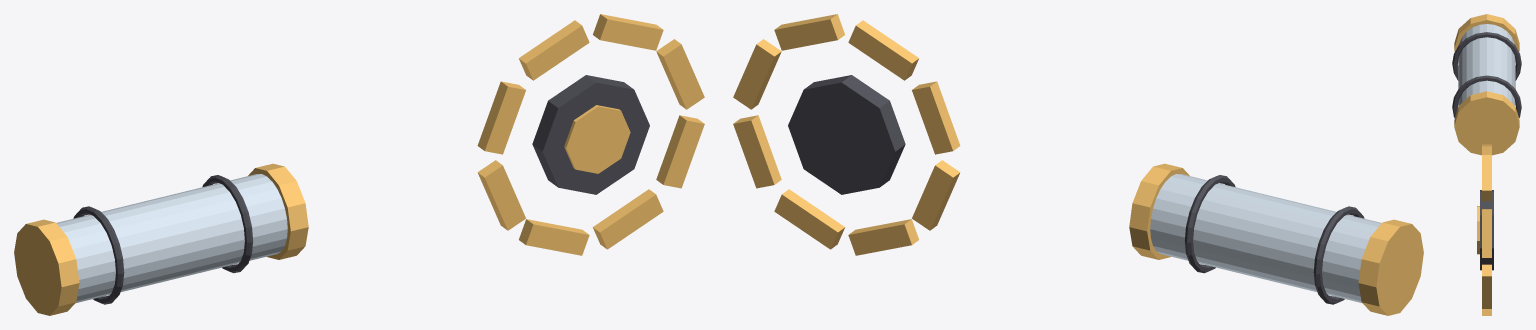
File: hud_gauges.fbx
3 renders of one model, left to right at view 1: azimuth 30°, elevation 25°; view 2: azimuth 150°, elevation 25°; view 3: azimuth 270°, elevation 25°, orthographic. The views are drawn at different scales.
Visible parts, largest first — view 1: FT_Glass__UI_Glass, HR_Core__UI_Dark, FT_CapL__UI_Accent, HR_CoreGlow__UI_Accent, FT_CapR__UI_Accent, HR_Plate3__UI_Accent, HR_Plate7__UI_Accent, HR_Plate8__UI_Accent, HR_Plate4__UI_Accent, HR_Plate2__UI_Accent, HR_Plate6__UI_Accent, HR_Plate5__UI_Accent (+3 smaller); view 2: FT_Glass__UI_Glass, HR_Core__UI_Dark, FT_CapL__UI_Accent, FT_CapR__UI_Accent, HR_Plate3__UI_Accent, HR_Plate7__UI_Accent, HR_Plate8__UI_Accent, HR_Plate4__UI_Accent, HR_Plate2__UI_Accent, HR_Plate6__UI_Accent, HR_Plate5__UI_Accent, HR_Plate1__UI_Accent (+2 smaller); view 3: FT_CapR__UI_Accent, FT_Glass__UI_Glass, FT_CapL__UI_Accent, FT_RingL__UI_Dark, FT_RingR__UI_Dark, HR_Plate2__UI_Accent, HR_Core__UI_Dark, HR_Plate1__UI_Accent, HR_Plate3__UI_Accent, HR_CoreGlow__UI_Accent, HR_Plate8__UI_Accent, HR_Plate4__UI_Accent.
Boxes of the visible parts, bbox=[...] form: FT_Glass__UI_Glass: bbox=[56, 174, 287, 303]; HR_Core__UI_Dark: bbox=[532, 75, 649, 194]; FT_CapL__UI_Accent: bbox=[14, 219, 79, 315]; HR_CoreGlow__UI_Accent: bbox=[564, 105, 630, 173]; FT_CapR__UI_Accent: bbox=[248, 163, 308, 259]; HR_Plate3__UI_Accent: bbox=[656, 115, 704, 188]; HR_Plate7__UI_Accent: bbox=[477, 81, 525, 154]; HR_Plate8__UI_Accent: bbox=[519, 20, 589, 80]; HR_Plate4__UI_Accent: bbox=[592, 189, 663, 249]; HR_Plate2__UI_Accent: bbox=[656, 39, 704, 109]; HR_Plate6__UI_Accent: bbox=[477, 160, 525, 230]; HR_Plate5__UI_Accent: bbox=[519, 219, 589, 255]; FT_Glass__UI_Glass: bbox=[1150, 174, 1381, 303]; HR_Core__UI_Dark: bbox=[788, 75, 905, 194]; FT_CapL__UI_Accent: bbox=[1358, 219, 1423, 315]; FT_CapR__UI_Accent: bbox=[1129, 163, 1189, 259]; HR_Plate3__UI_Accent: bbox=[733, 115, 781, 188]; HR_Plate7__UI_Accent: bbox=[912, 81, 960, 154]; HR_Plate8__UI_Accent: bbox=[848, 20, 918, 80]; HR_Plate4__UI_Accent: bbox=[774, 189, 845, 249]; HR_Plate2__UI_Accent: bbox=[733, 39, 781, 109]; HR_Plate6__UI_Accent: bbox=[912, 160, 960, 230]; HR_Plate5__UI_Accent: bbox=[848, 219, 918, 255]; HR_Plate1__UI_Accent: bbox=[774, 14, 844, 50]; FT_CapR__UI_Accent: bbox=[1454, 91, 1519, 155]; FT_Glass__UI_Glass: bbox=[1458, 24, 1515, 105]; FT_CapL__UI_Accent: bbox=[1454, 14, 1519, 62]; FT_RingL__UI_Dark: bbox=[1452, 32, 1521, 80]; FT_RingR__UI_Dark: bbox=[1452, 75, 1521, 118]; HR_Plate2__UI_Accent: bbox=[1482, 209, 1491, 257]; HR_Core__UI_Dark: bbox=[1480, 190, 1493, 270]; HR_Plate1__UI_Accent: bbox=[1482, 155, 1491, 201]; HR_Plate3__UI_Accent: bbox=[1482, 264, 1491, 308]; HR_CoreGlow__UI_Accent: bbox=[1477, 206, 1479, 254]; HR_Plate8__UI_Accent: bbox=[1482, 144, 1491, 154]; HR_Plate4__UI_Accent: bbox=[1482, 309, 1491, 315].
Bounding box in the file's own units: 18.52 × 6.15 × 2.44.
